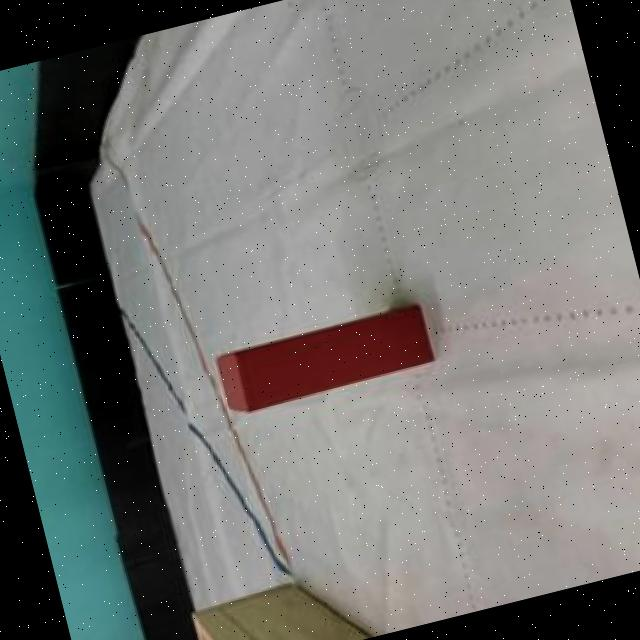redbox: (209, 301, 433, 418)
